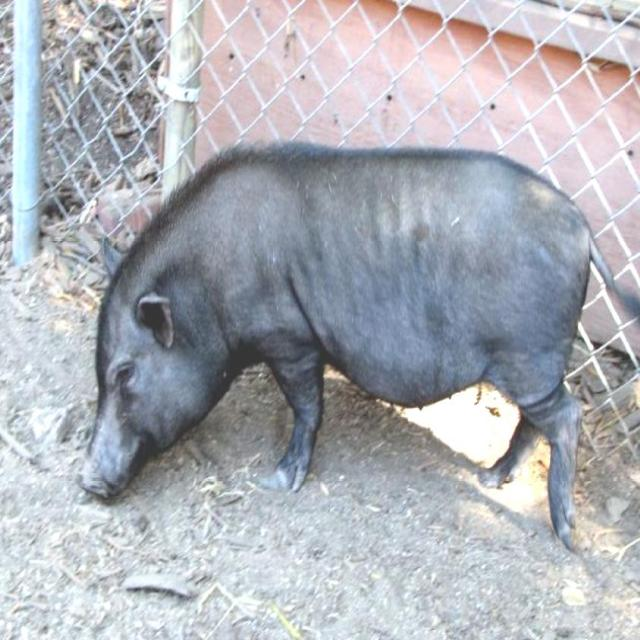pig: (81, 144, 640, 549)
